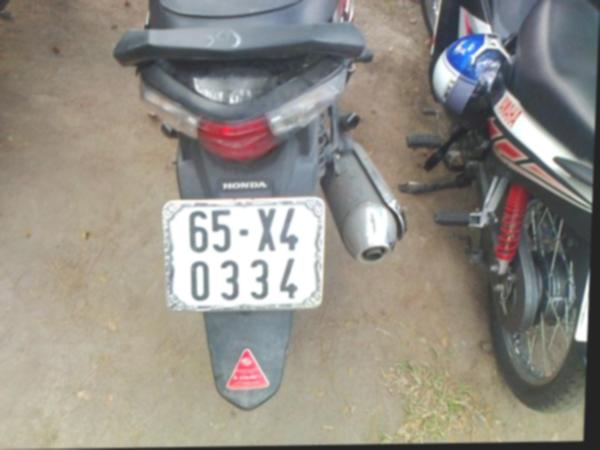License_Plate: (169, 192, 317, 309)
